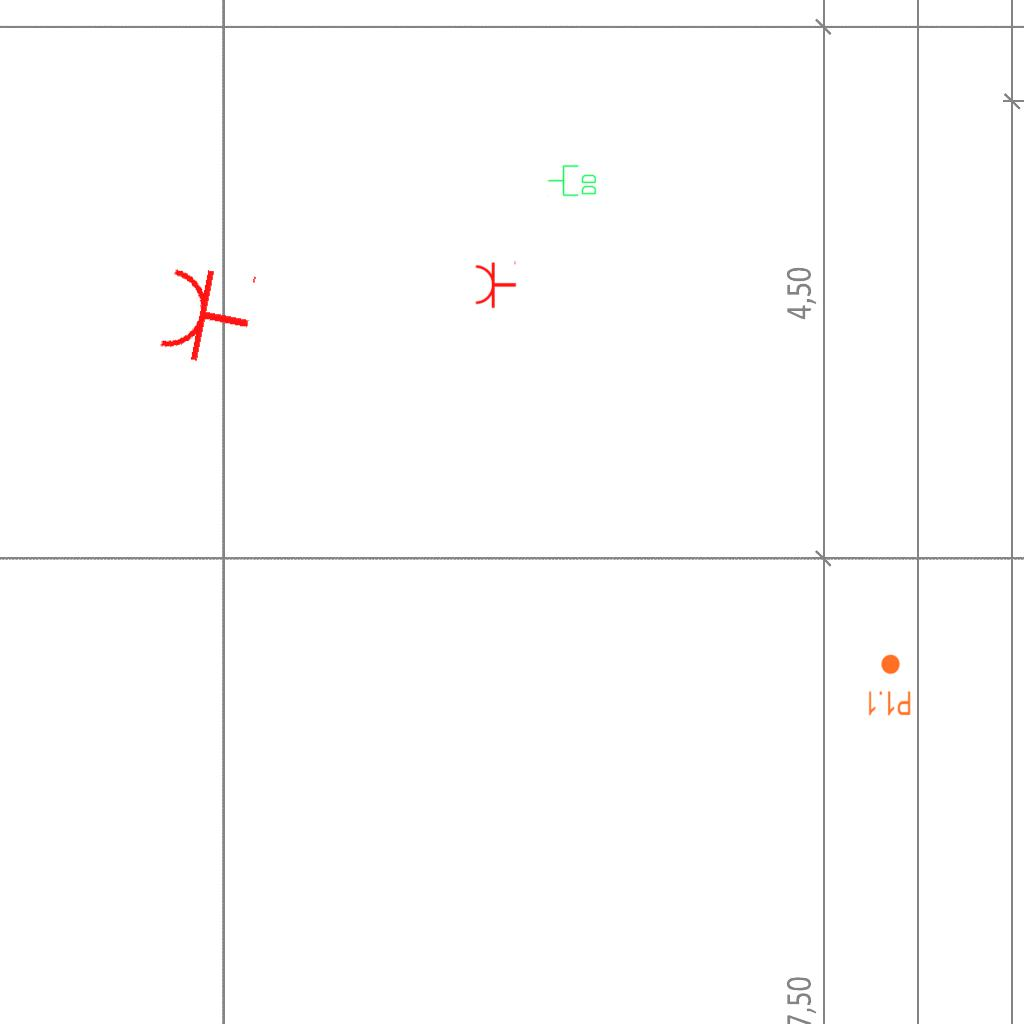Datenanschluss_zweifach: (547, 164, 598, 198)
Downlight_LED_Einbauleuchten_Flur: (866, 653, 912, 717)
Schukosteckdose_einfach: (155, 256, 260, 372), (474, 259, 517, 309)
